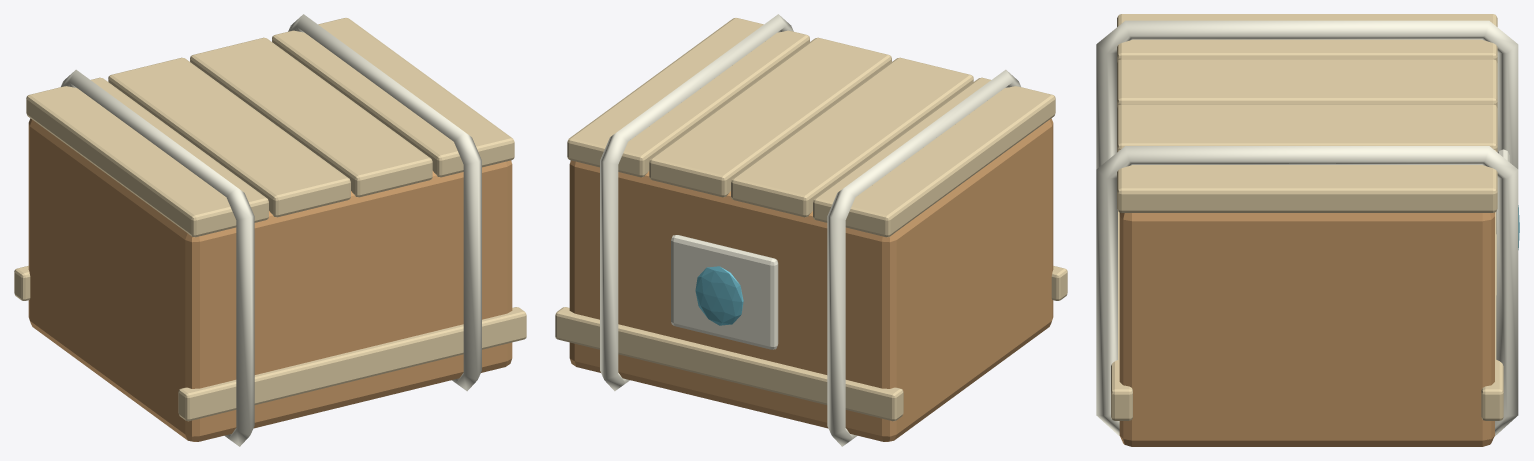
File: SupplyCrate.fbx
3 views of the same model, side by side, from view 1: azimuth 30°, elevation 25°; view 2: azimuth 150°, elevation 25°; view 3: azimuth 270°, elevation 25° (orthographic). The views are drawn at different scales.
Parts seen in each view (by area): view 1: Bevelled crate shell, Individual lid board.001, Individual lid board.002, Individual lid board, Individual lid board.003, Crate edge rail.001, Rounded cream lashing, Rounded cream lashing.001, Crate edge rail; view 2: Bevelled crate shell, Individual lid board.001, Individual lid board.002, Individual lid board, Individual lid board.003, Crate edge rail, Rounded cream lashing, Rounded cream lashing.001, Supply plaque, Blue ocean seal, Crate edge rail.001; view 3: Bevelled crate shell, Rounded cream lashing.001, Individual lid board.003, Individual lid board.001, Individual lid board.002, Rounded cream lashing, Individual lid board, Crate edge rail, Crate edge rail.001.
Boxes of the visible parts, x1,y1,x2,y2 form: Bevelled crate shell: (28, 118, 512, 441); Individual lid board.001: (108, 57, 350, 217); Individual lid board.002: (190, 37, 432, 197); Individual lid board: (26, 77, 268, 237); Individual lid board.003: (272, 18, 514, 177); Crate edge rail.001: (178, 307, 526, 421); Rounded cream lashing: (61, 69, 254, 446); Rounded cream lashing.001: (288, 14, 481, 391); Crate edge rail: (14, 266, 30, 300); Bevelled crate shell: (569, 118, 1053, 441); Individual lid board.001: (731, 57, 973, 217); Individual lid board.002: (649, 37, 891, 197); Individual lid board: (813, 77, 1055, 237); Individual lid board.003: (567, 18, 809, 177); Crate edge rail: (555, 307, 903, 421); Rounded cream lashing: (827, 69, 1020, 446); Rounded cream lashing.001: (600, 14, 793, 391); Supply plaque: (671, 235, 778, 349); Blue ocean seal: (695, 266, 743, 325); Crate edge rail.001: (1051, 266, 1067, 300); Bevelled crate shell: (1119, 212, 1494, 446); Rounded cream lashing.001: (1096, 146, 1518, 436); Individual lid board.003: (1117, 149, 1497, 212); Individual lid board.001: (1117, 59, 1497, 107); Individual lid board.002: (1117, 104, 1497, 152); Rounded cream lashing: (1096, 20, 1518, 233); Individual lid board: (1117, 14, 1497, 62); Crate edge rail: (1481, 212, 1503, 420); Crate edge rail.001: (1111, 211, 1132, 420).
Size of the model in its own units: 90 by 64.96 by 85.72.
